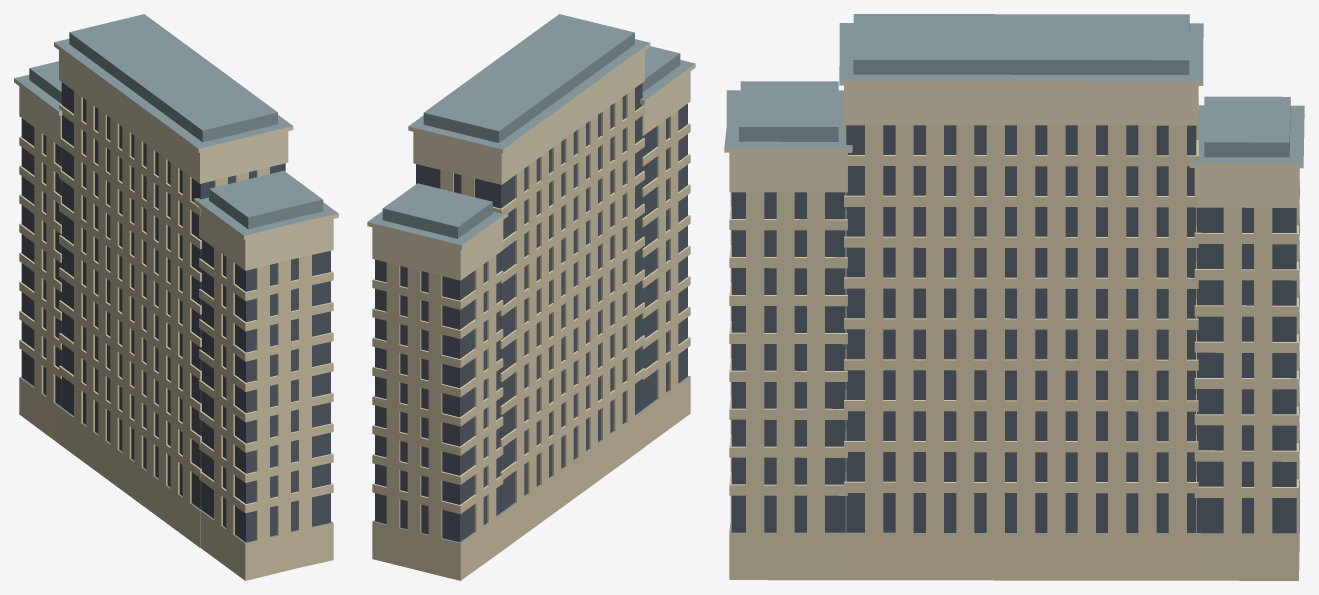
The model's file is bellagio_spa_tower_w25723910.glb.
The picture shows the model from 3 angles, left to right: view 1: azimuth 30°, elevation 25°; view 2: azimuth 150°, elevation 25°; view 3: azimuth 270°, elevation 25°; orthographic projection. The views are drawn at different scales.
Parts seen in each view (by area): view 1: Tower_w25723910; view 2: Tower_w25723910; view 3: Tower_w25723910.
Part boxes in pixels (left/top/right/bottom): Tower_w25723910: left=14, top=14, right=338, bottom=580; Tower_w25723910: left=367, top=14, right=695, bottom=580; Tower_w25723910: left=724, top=14, right=1304, bottom=580.
Bounding box in the file's own units: 29.56 × 122 × 124.
